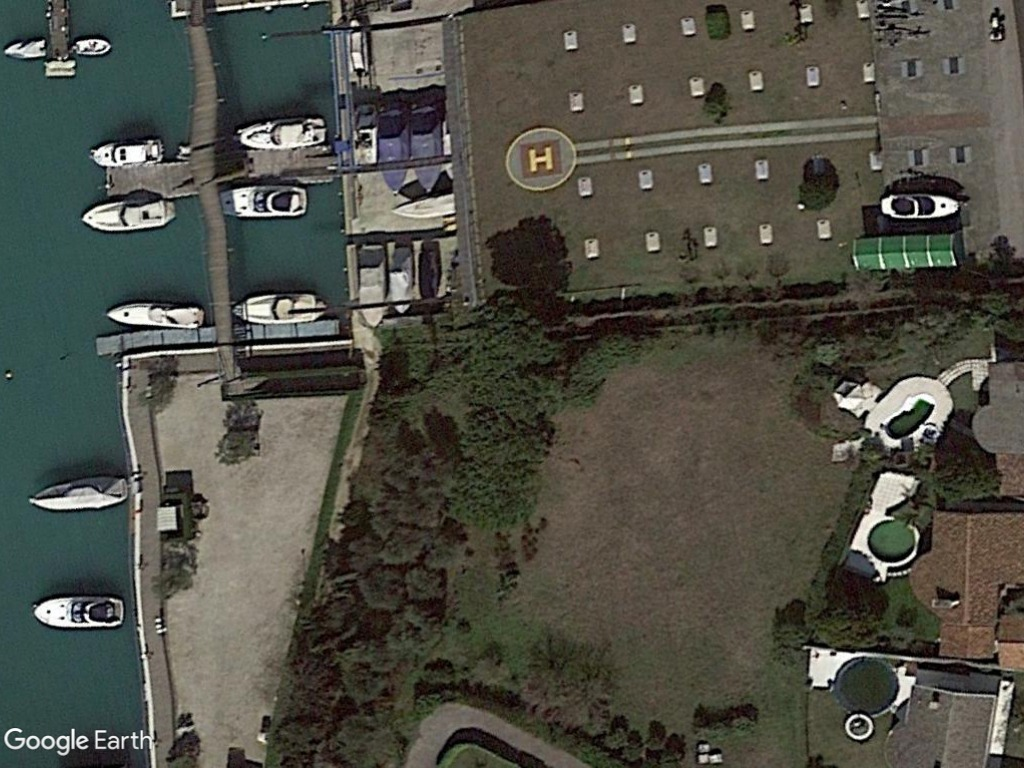boat: (23, 470, 128, 516), (226, 111, 329, 154), (77, 192, 175, 236), (213, 178, 310, 221), (227, 287, 331, 327), (28, 590, 127, 632), (102, 297, 206, 332), (873, 189, 969, 223), (86, 133, 166, 170), (0, 32, 49, 63), (68, 36, 116, 58)
